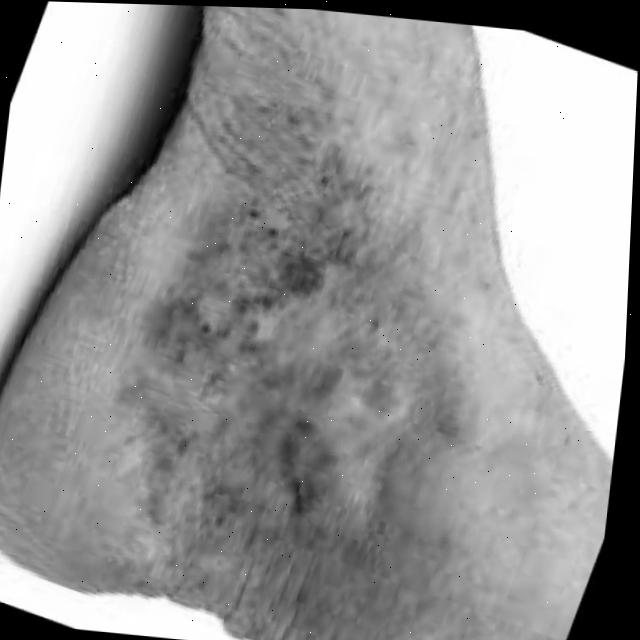Eczema: (149, 84, 446, 530)
